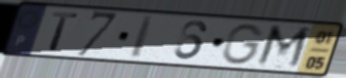6: (173, 19, 210, 62)
7: (75, 10, 122, 58)
G: (220, 22, 267, 67)
I: (127, 15, 158, 61)
M: (252, 23, 314, 72)
T: (47, 10, 80, 54)
